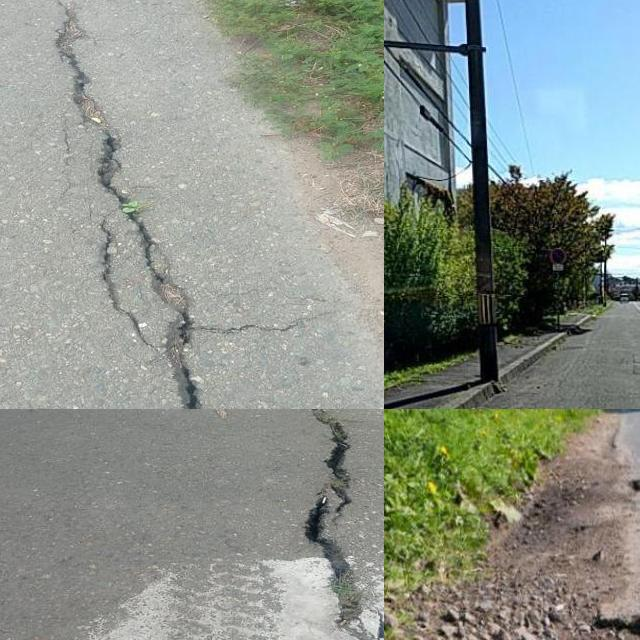Memanjang: (27, 0, 238, 409), (265, 409, 384, 640)
